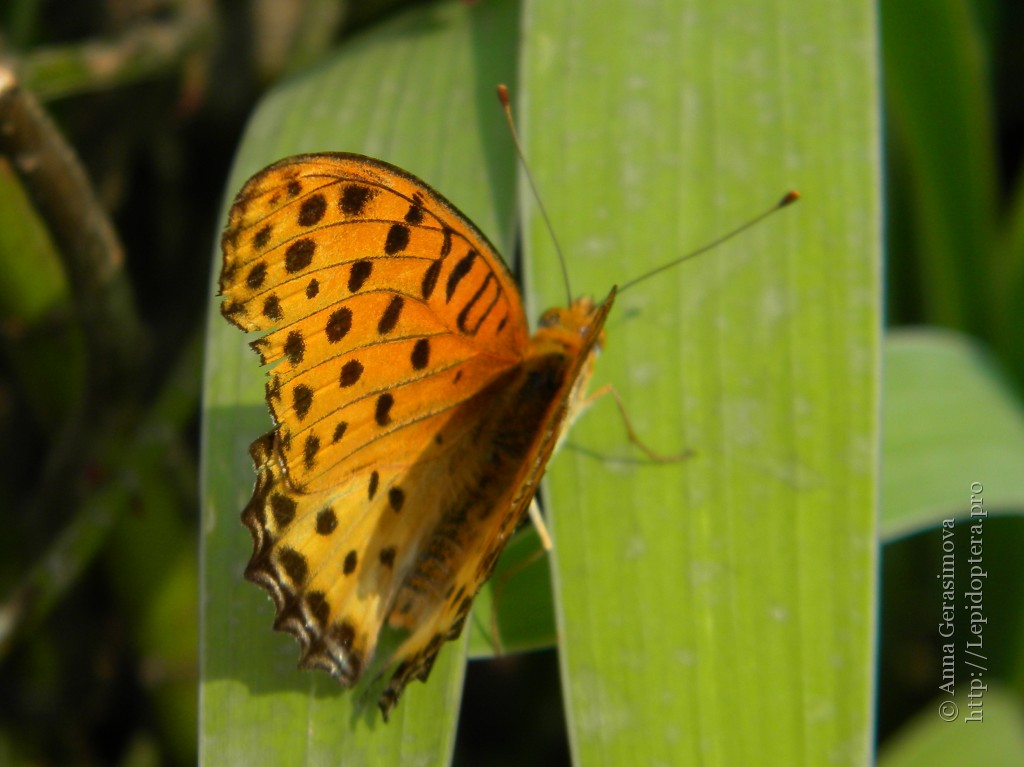Argyreus hyperbius: (216, 65, 807, 708)
butterfly: (218, 67, 809, 710)
